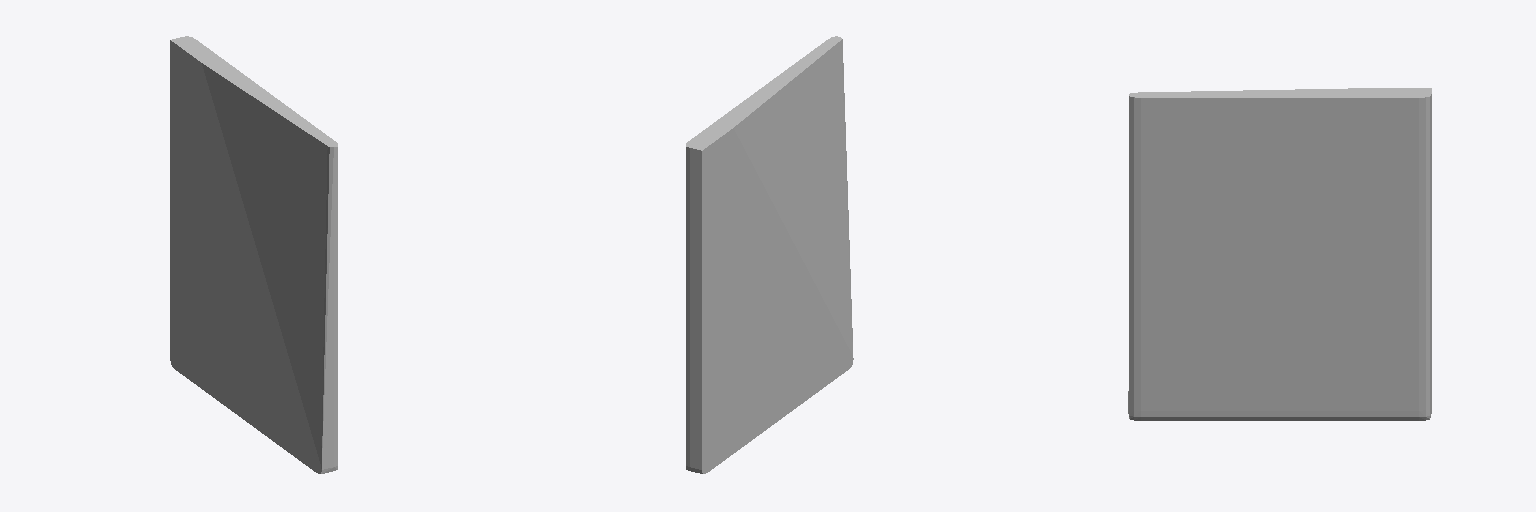
The model's file is Cart_pocket_collision_1.obj.
3 renders of one model, left to right at view 1: azimuth 30°, elevation 25°; view 2: azimuth 150°, elevation 25°; view 3: azimuth 270°, elevation 25°, orthographic.
Size of the model in its own units: 0.0244 by 0.381 by 0.321.